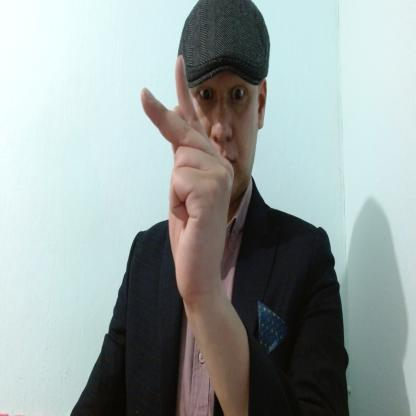P: (139, 51, 234, 303)
